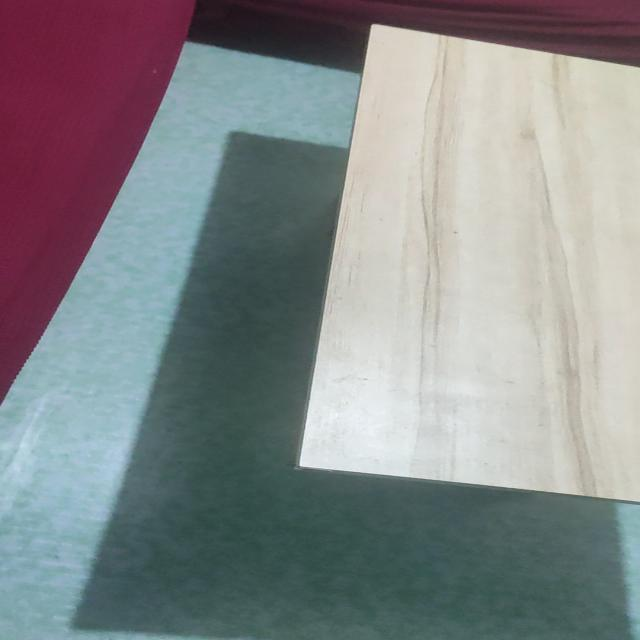table: (285, 21, 640, 516)
